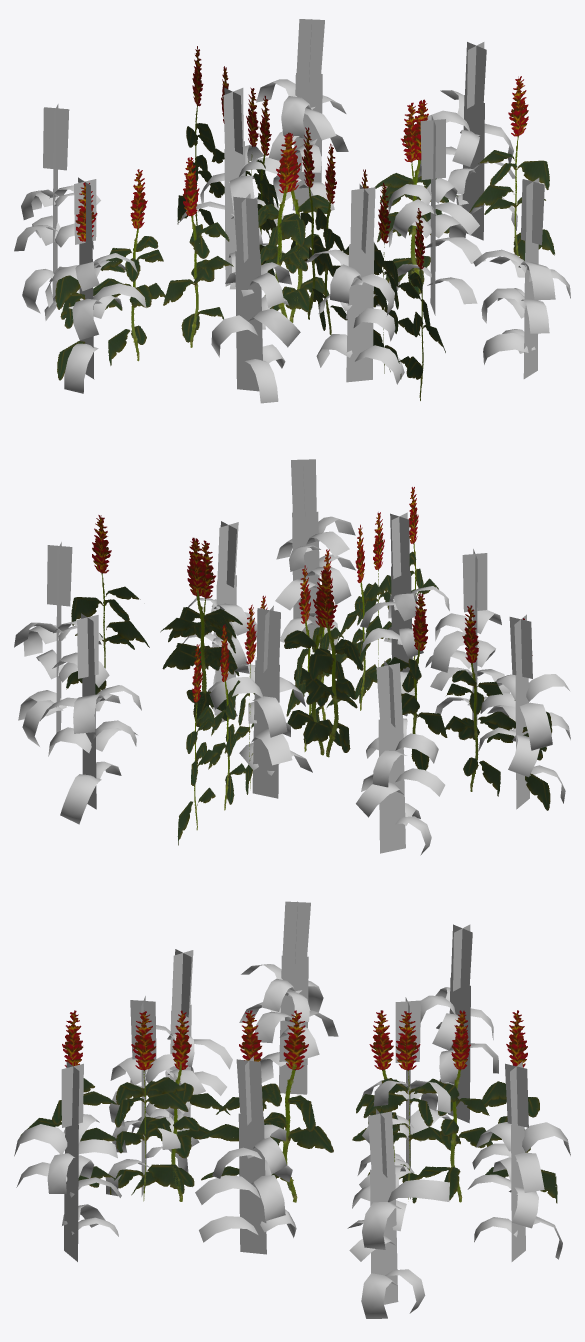
The model's file is Grass4.fbx.
The picture shows the model from 3 angles, top to bottom: view 1: azimuth 30°, elevation 25°; view 2: azimuth 150°, elevation 25°; view 3: azimuth 270°, elevation 25°; orthographic projection. The views are drawn at different scales.
Visible parts, largest first — view 1: LOD0, Billboard; view 2: LOD0, Billboard; view 3: LOD0, Billboard.
Part boxes in pixels (bbox=[...]): LOD0: bbox=[14, 19, 570, 403]; Billboard: bbox=[55, 46, 554, 400]; LOD0: bbox=[14, 459, 570, 855]; Billboard: bbox=[66, 487, 552, 845]; LOD0: bbox=[14, 901, 570, 1318]; Billboard: bbox=[20, 1010, 557, 1203].
Size of what is drawn, in the model's own units: 344 by 127 by 326.
